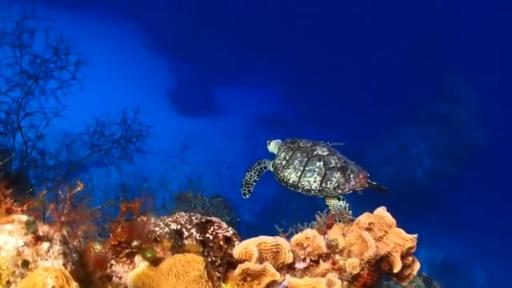Fish: (242, 139, 387, 211)
